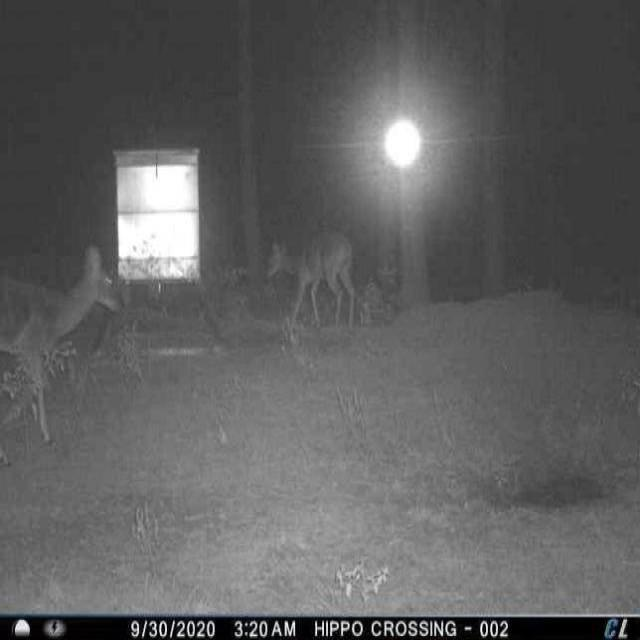deer: (0, 237, 129, 467), (261, 224, 365, 339)
